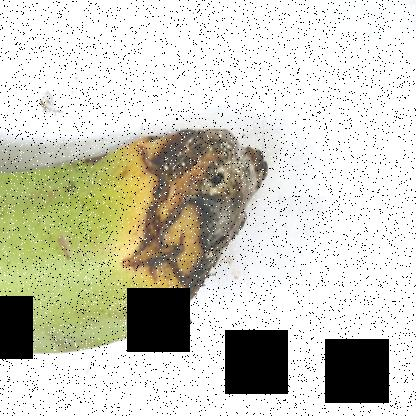rotten: (89, 105, 284, 359)
